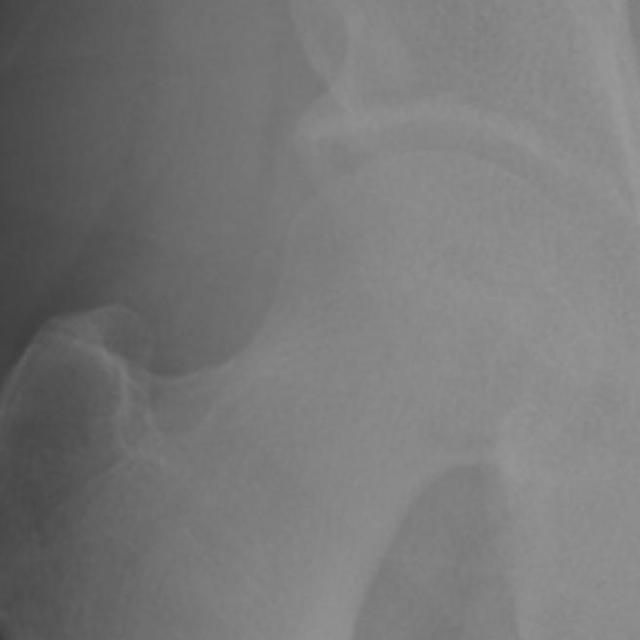Fitted_femural_head: (351, 149, 432, 351)
